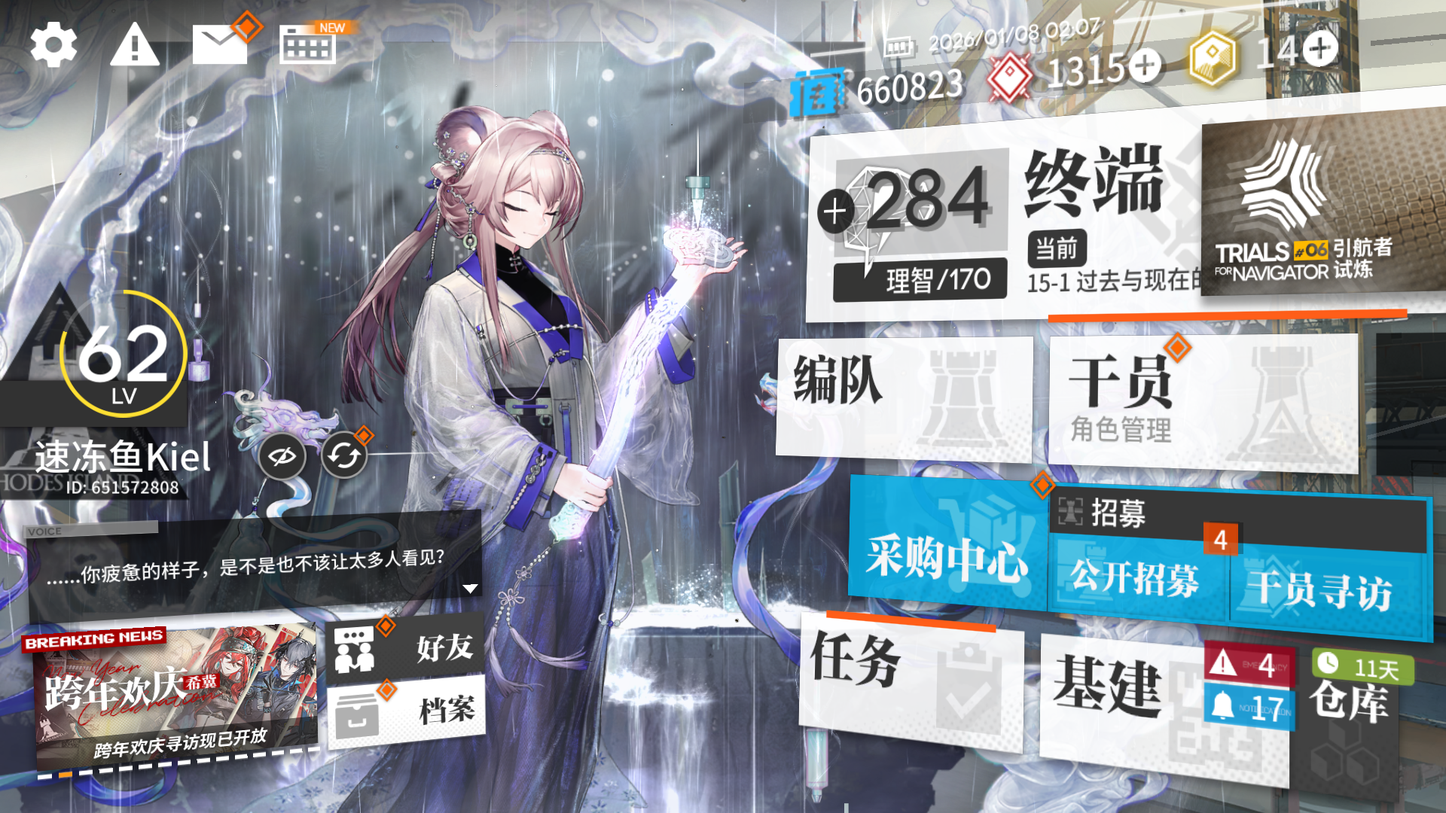home_button: (1008, 122, 1170, 245)
infrastructure_button: (1040, 626, 1284, 752)
